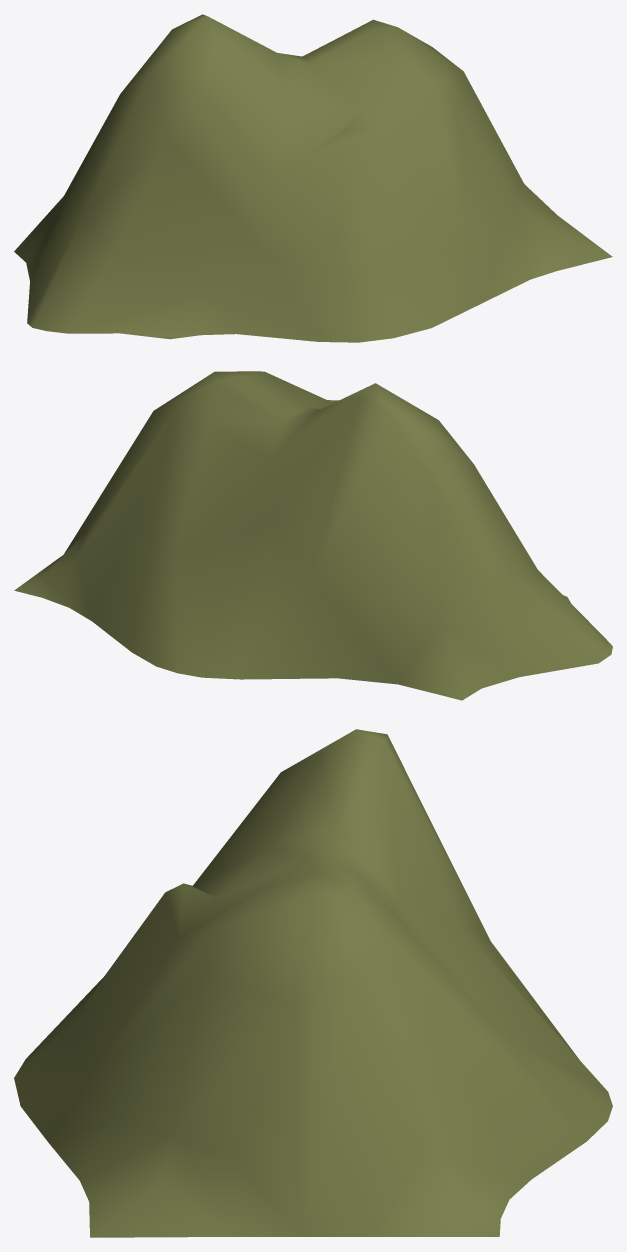
Rendered from cheap_hill.glb.
3 views of the same model, one above another, from view 1: azimuth 30°, elevation 25°; view 2: azimuth 150°, elevation 25°; view 3: azimuth 270°, elevation 25° (orthographic). The views are drawn at different scales.
Parts seen in each view (by area): view 1: Plane; view 2: Plane; view 3: Plane.
Part boxes in pixels (bbox=[...]): Plane: bbox=[14, 14, 612, 342]; Plane: bbox=[14, 371, 612, 700]; Plane: bbox=[14, 729, 612, 1237].
Size of the model in its own units: 75.05 by 34.33 by 58.47.
